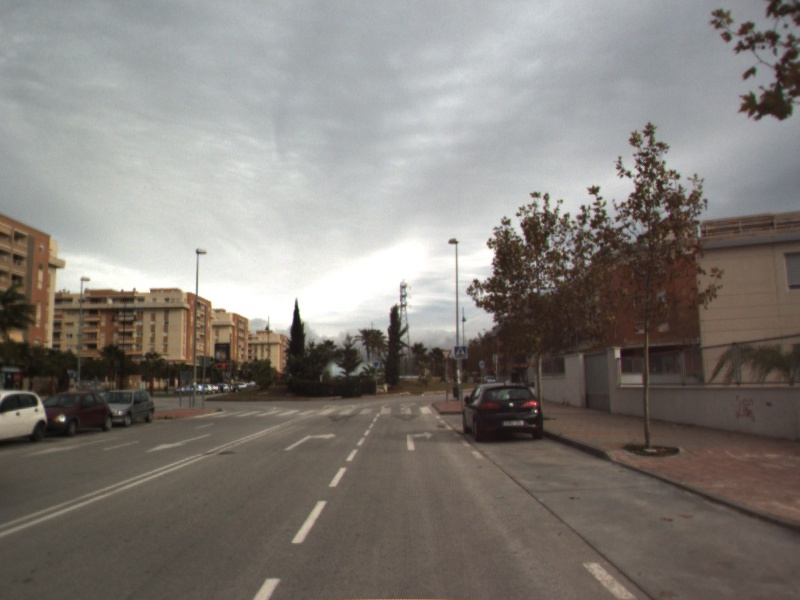RIGHT: (281, 430, 338, 452), (404, 429, 436, 452)
